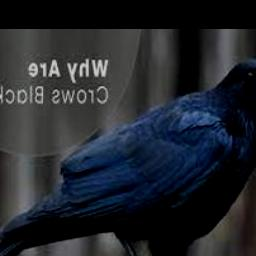Crow: (0, 59, 256, 256)
